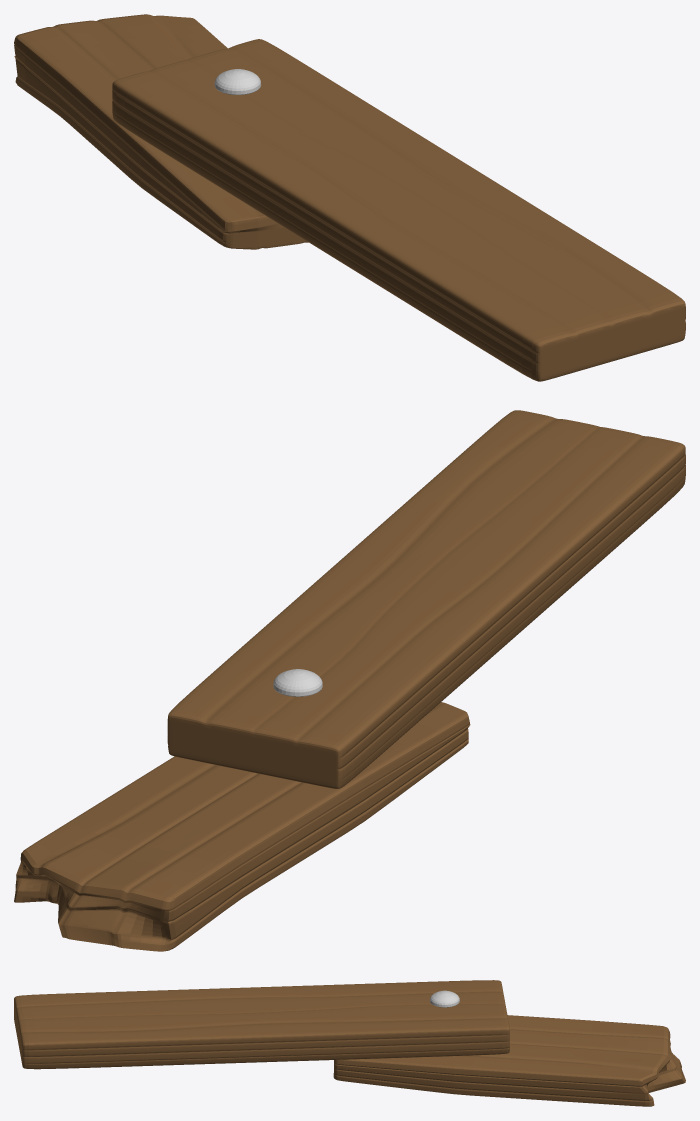
The picture shows the model from 3 angles, top to bottom: view 1: azimuth 30°, elevation 25°; view 2: azimuth 150°, elevation 25°; view 3: azimuth 270°, elevation 25°; orthographic projection. The views are drawn at different scales.
Parts seen in each view (by area): view 1: plank.001, plank broke, N larry.002; view 2: plank.001, plank broke, N larry.002; view 3: plank.001, plank broke, N larry.002.
Part boxes in pixels (bbox=[...]): plank.001: bbox=[112, 39, 685, 381]; plank broke: bbox=[14, 14, 308, 249]; N larry.002: bbox=[214, 69, 261, 95]; plank.001: bbox=[167, 410, 685, 788]; plank broke: bbox=[14, 702, 470, 951]; N larry.002: bbox=[273, 669, 322, 696]; plank.001: bbox=[14, 980, 509, 1069]; plank broke: bbox=[333, 1015, 685, 1106]; N larry.002: bbox=[429, 990, 459, 1007].
Size of the model in its own units: 1728 by 984 by 7376.
